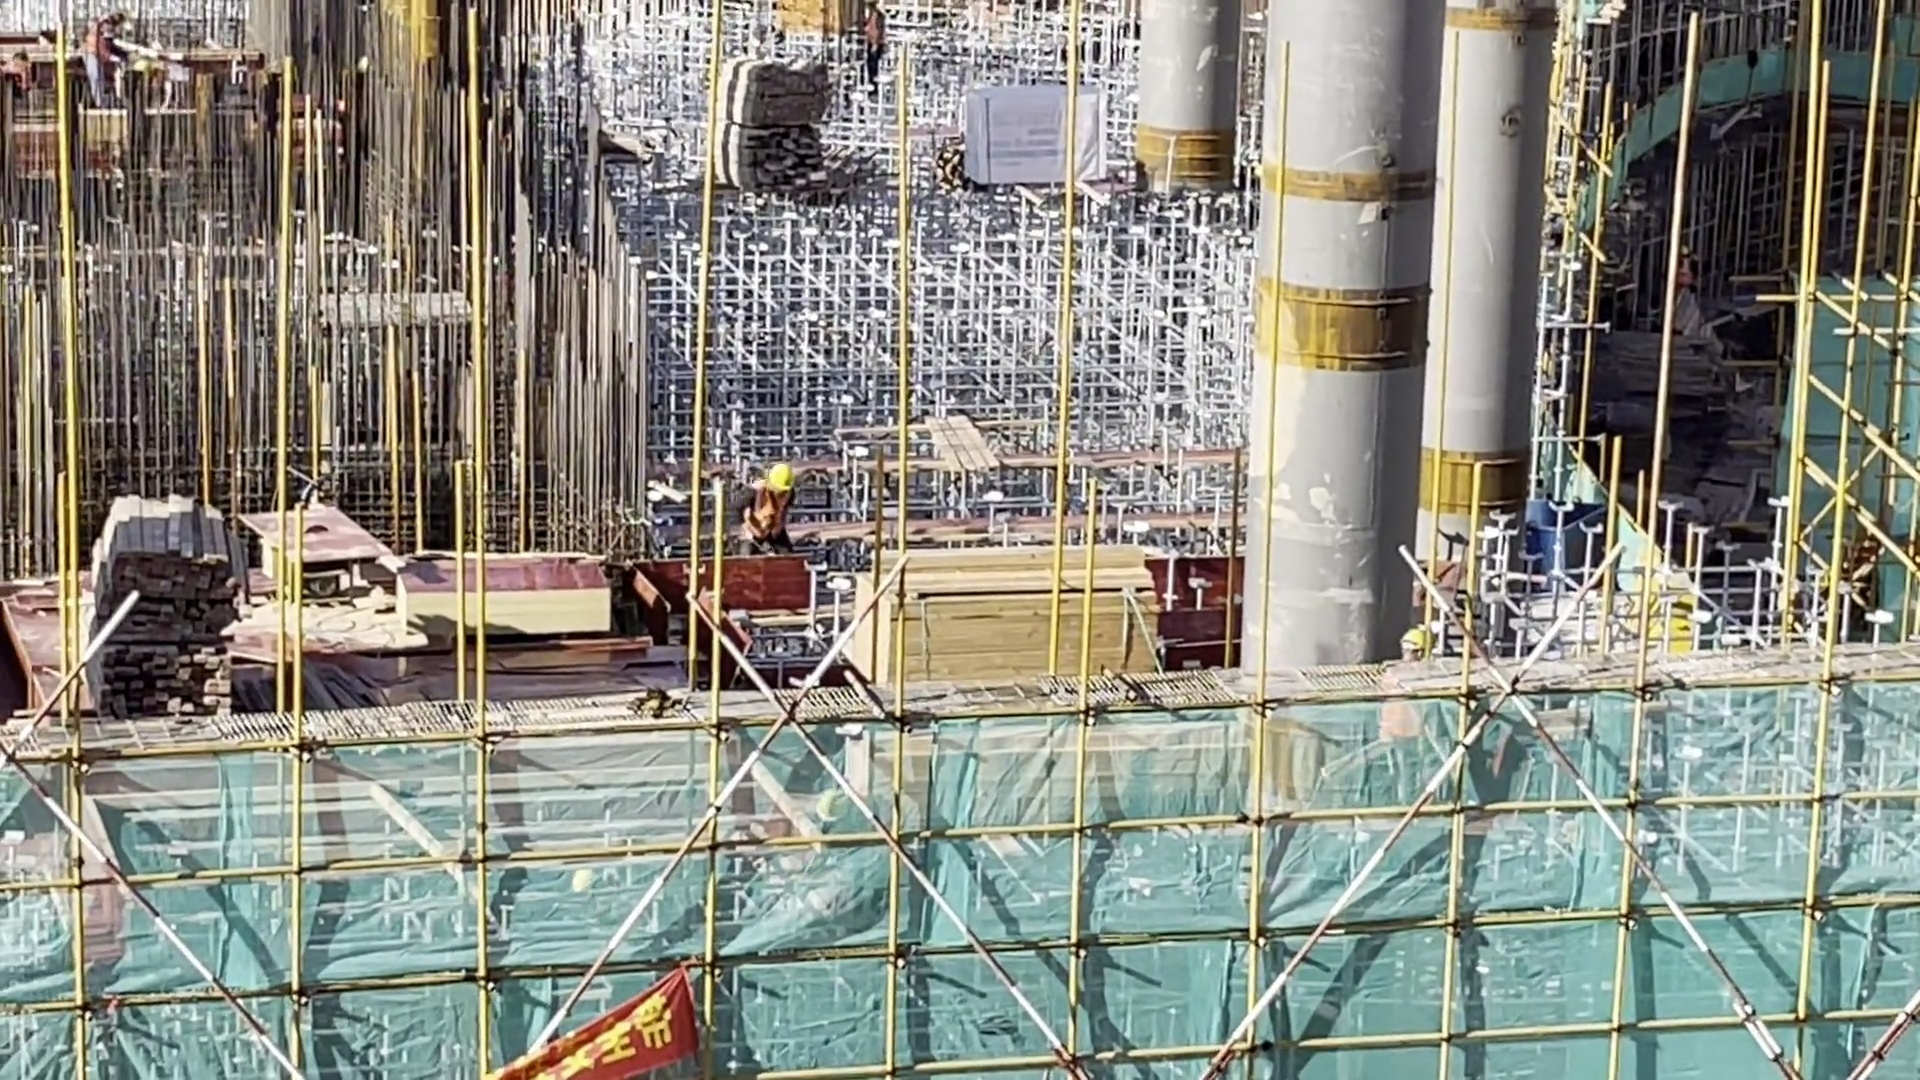helmet: (758, 454, 803, 502)
person: (728, 446, 803, 578)
slogan: (440, 916, 732, 1077)
vest: (752, 490, 787, 536)
wood: (855, 527, 1174, 702), (84, 474, 263, 723)
